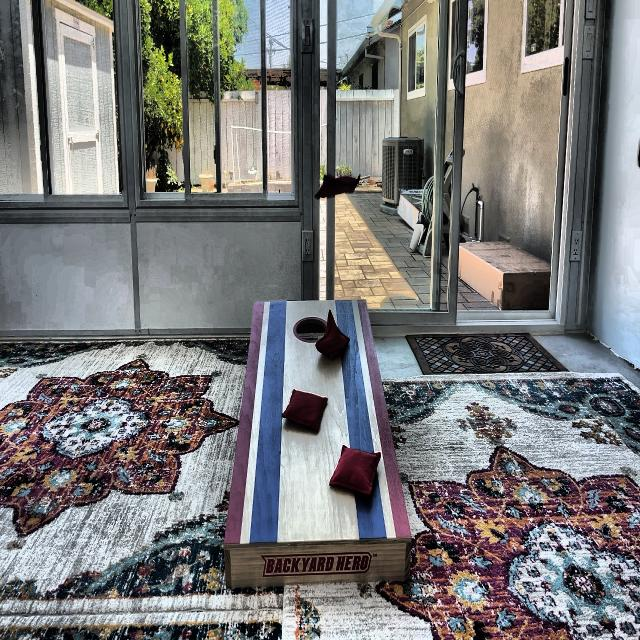board: (249, 300, 374, 544)
hole: (293, 314, 330, 344)
red-bean-bag: (328, 443, 381, 496), (282, 390, 328, 432), (315, 308, 350, 362), (314, 174, 362, 198)
